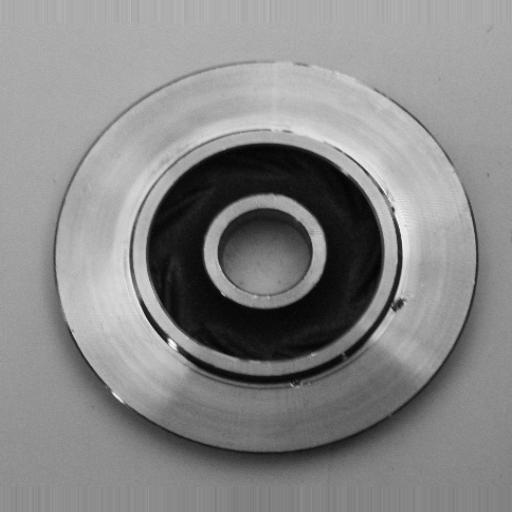crack: (278, 370, 319, 393), (383, 292, 412, 321)
scratch: (259, 120, 340, 152)
unpolished_casting: (52, 56, 482, 460)
